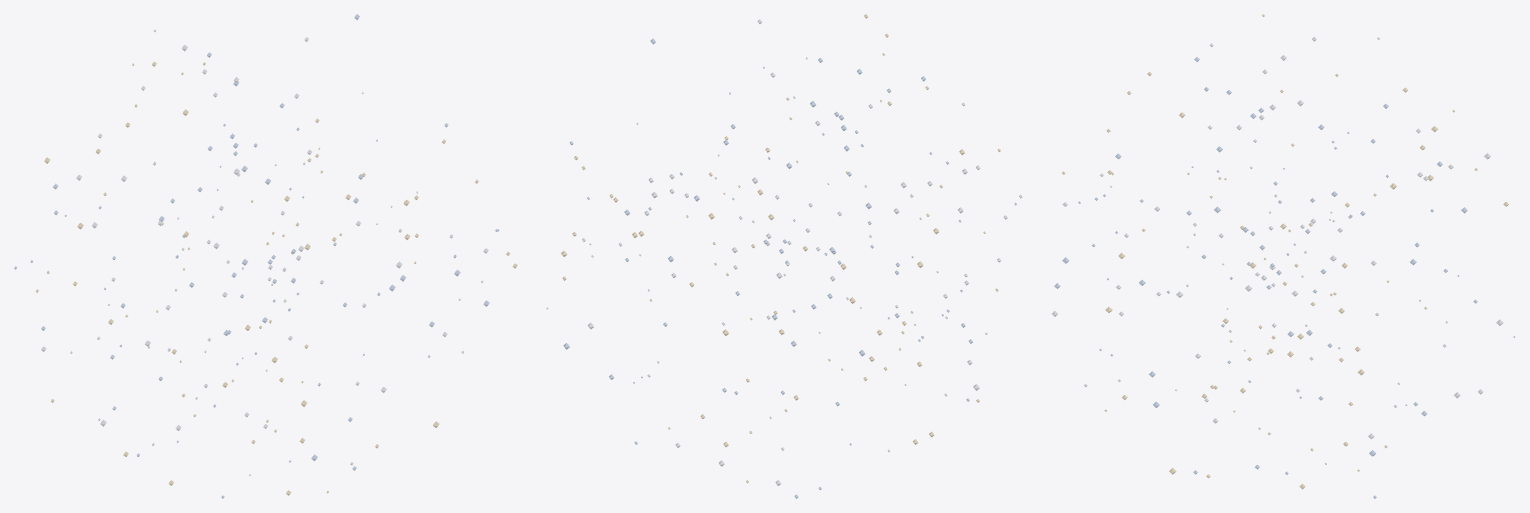
3 renders of one model, left to right at view 1: azimuth 30°, elevation 25°; view 2: azimuth 150°, elevation 25°; view 3: azimuth 270°, elevation 25°, orthographic. The views are drawn at different scales.
Size of the model in its own units: 5.06 by 4.96 by 4.74.
